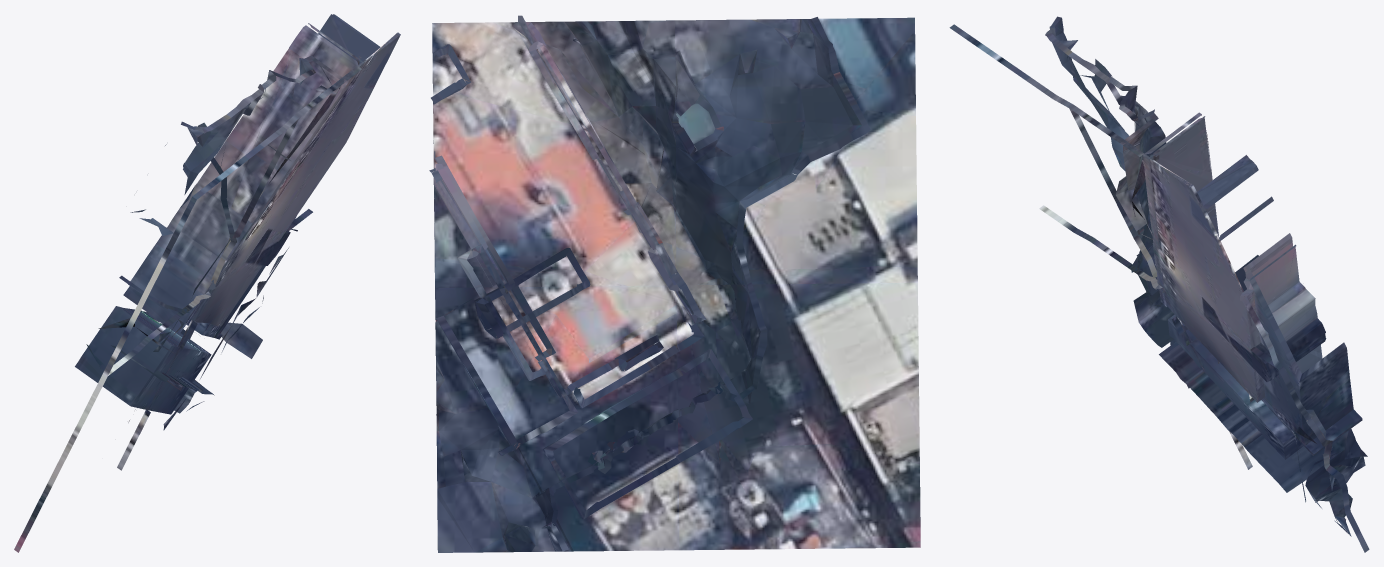
3 views of the same model, side by side, from view 1: azimuth 30°, elevation 25°; view 2: azimuth 150°, elevation 25°; view 3: azimuth 270°, elevation 25° (orthographic). The views are drawn at different scales.
Bounding box in the file's own units: 37.98 × 37.45 × 32.16.
Materials: 1 (1 with a texture image).
